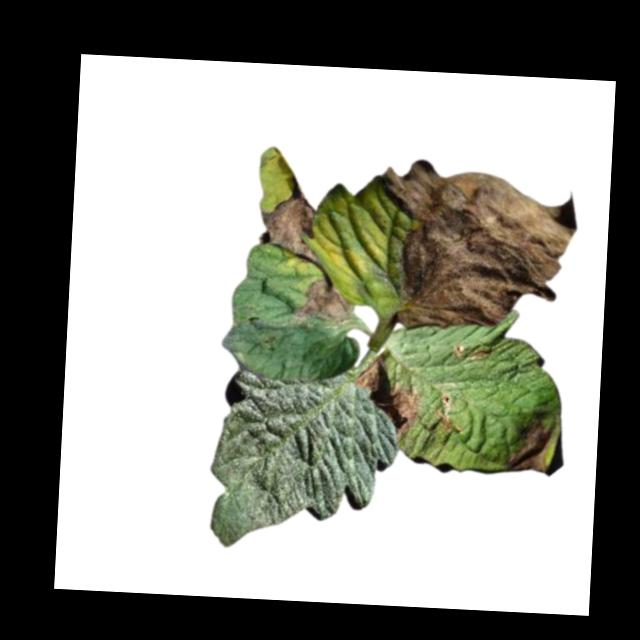Late_blight: (369, 157, 578, 337), (257, 178, 326, 266), (355, 356, 421, 439), (294, 274, 363, 326), (507, 416, 561, 474), (451, 341, 495, 365), (437, 393, 458, 436)
